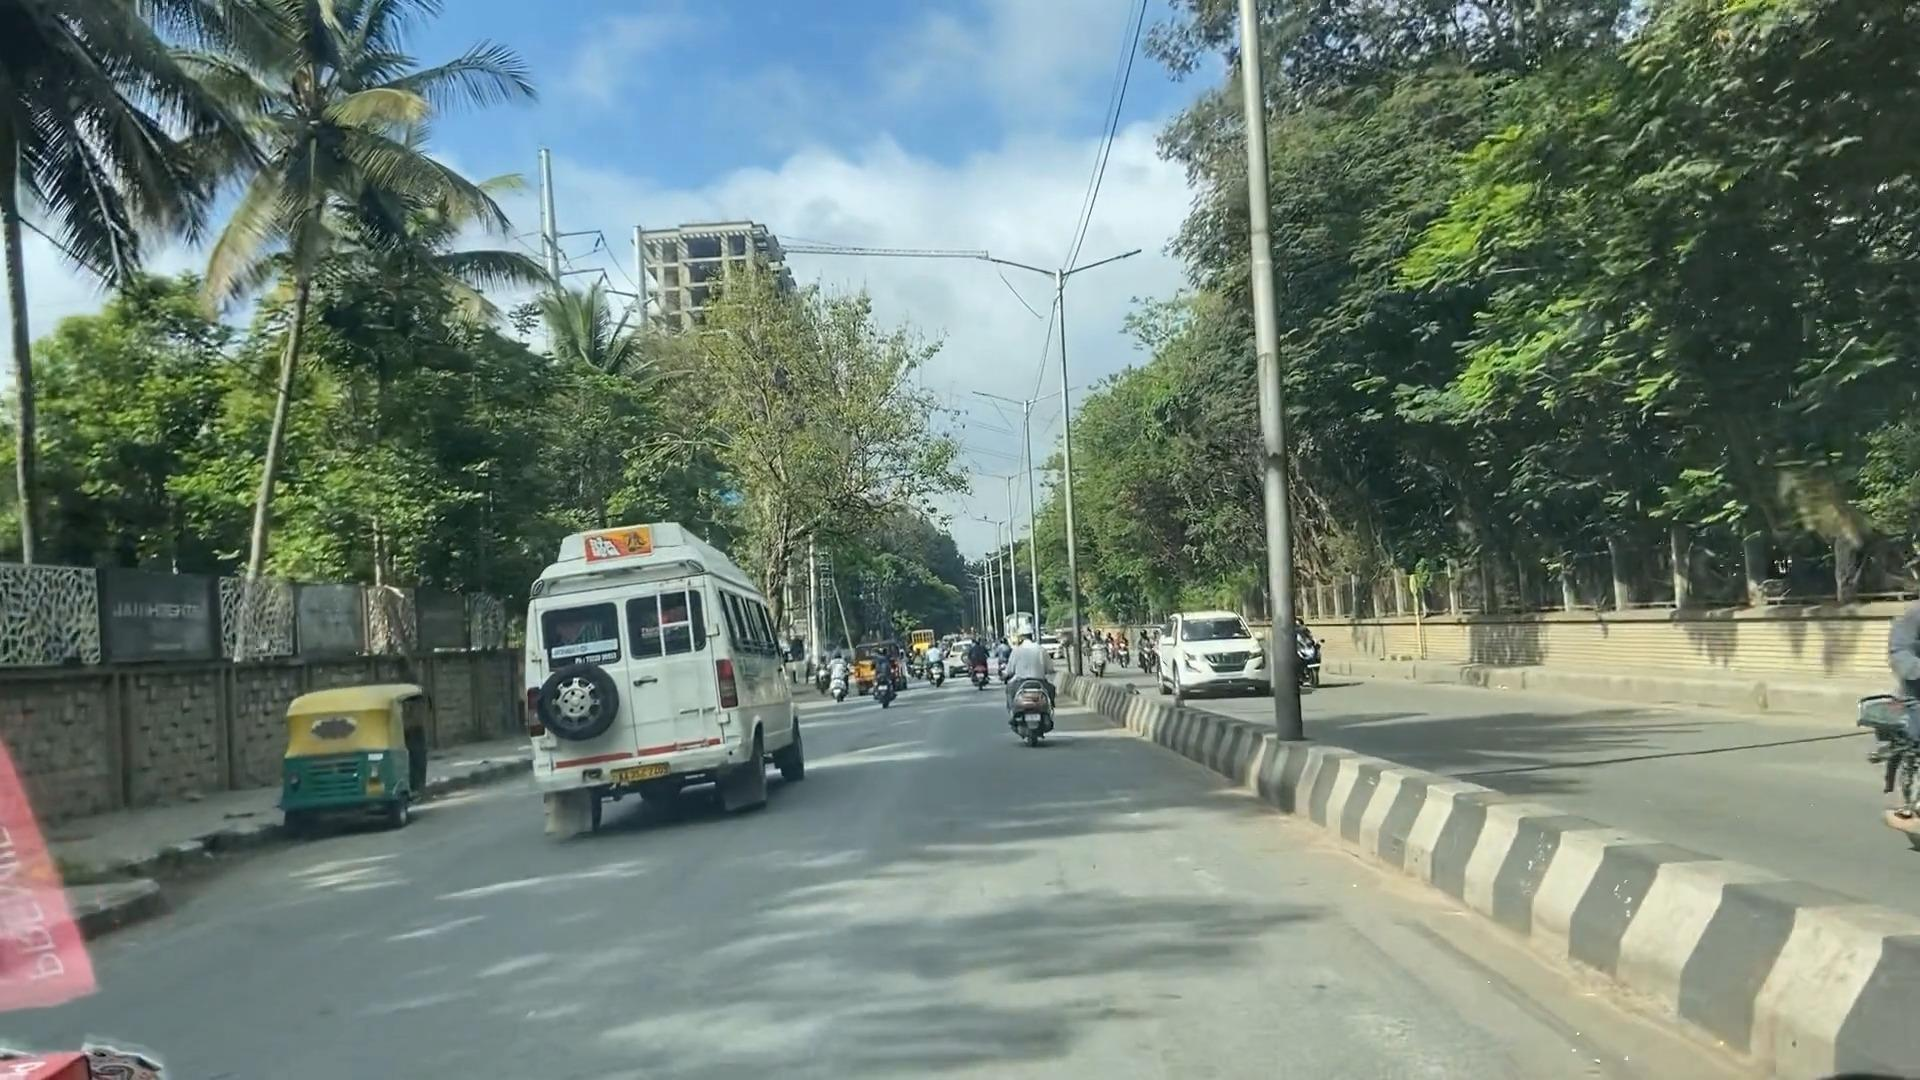HMV: (535, 498, 819, 819)
LMV: (286, 675, 439, 843)
